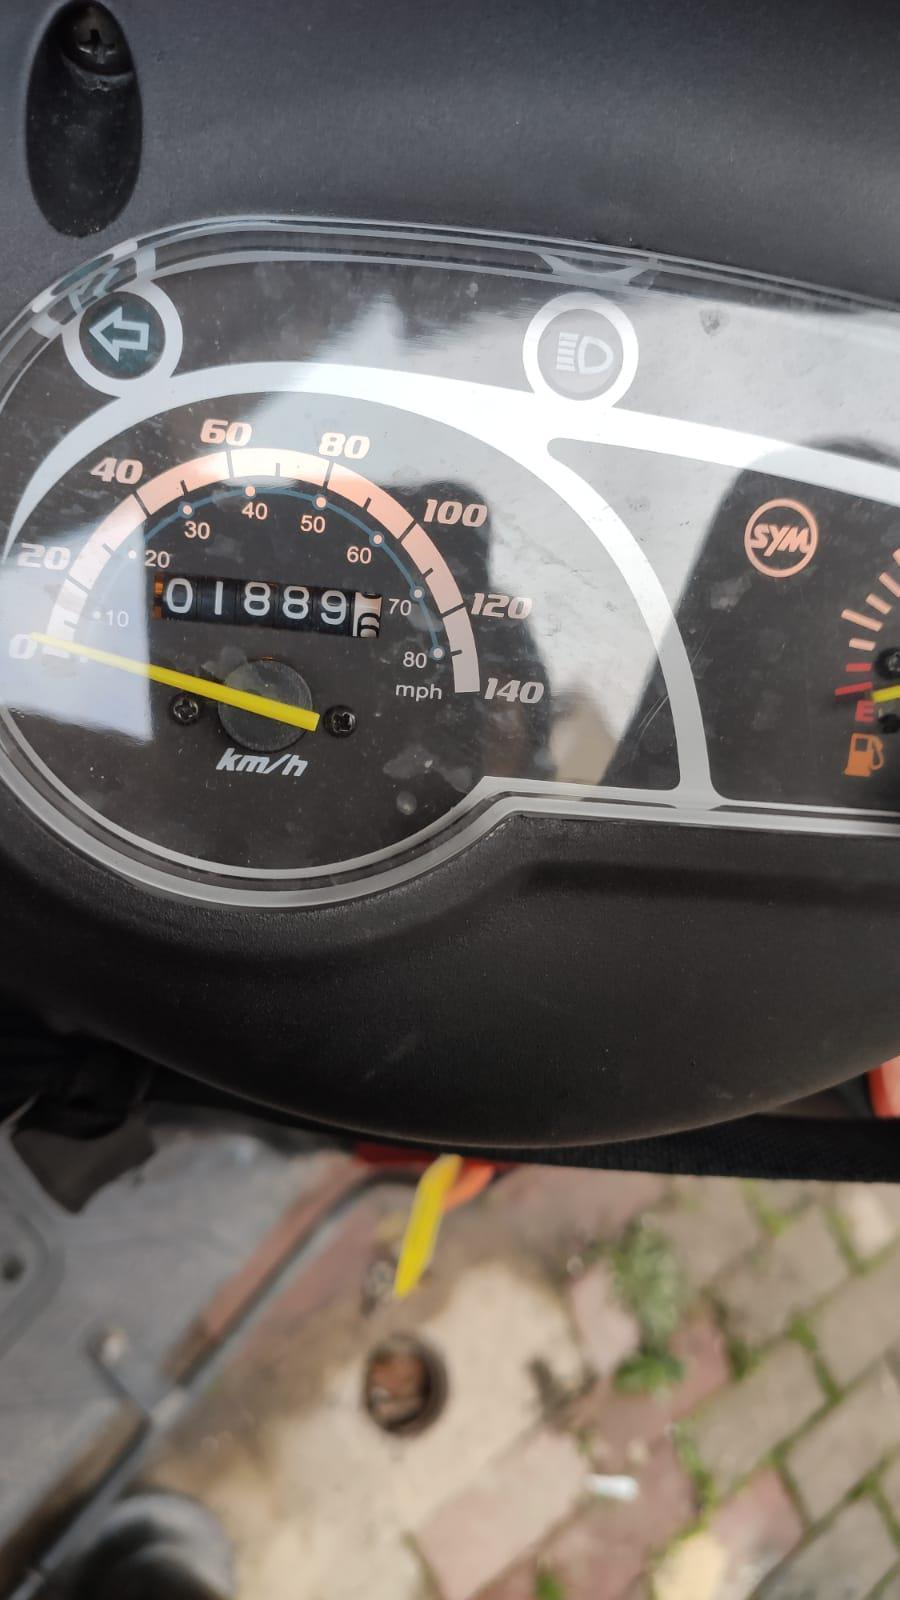0: (164, 573, 195, 616)
1: (210, 575, 226, 621)
6: (355, 605, 385, 640)
8: (240, 577, 273, 620), (280, 584, 309, 626)
9: (318, 586, 351, 630)
odometer: (149, 569, 389, 641)
